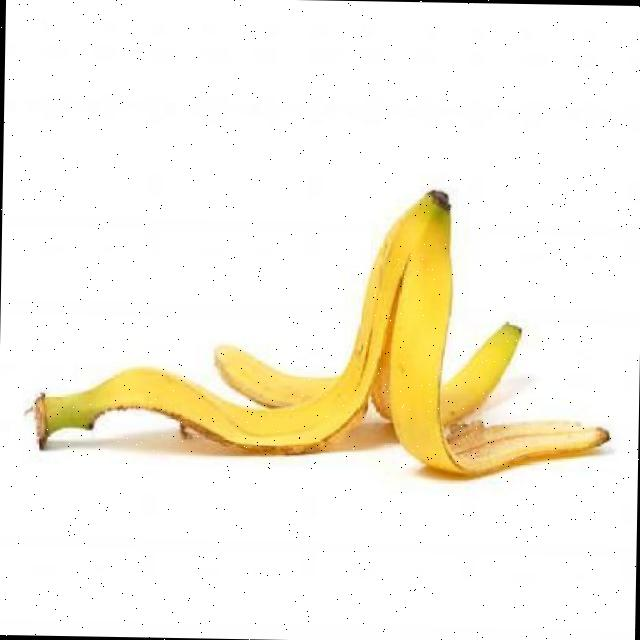banana-peel: (24, 179, 614, 479)
